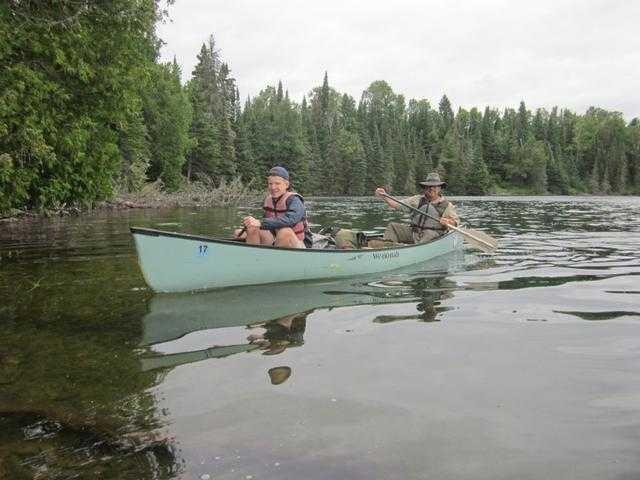kayak: (129, 223, 466, 295)
